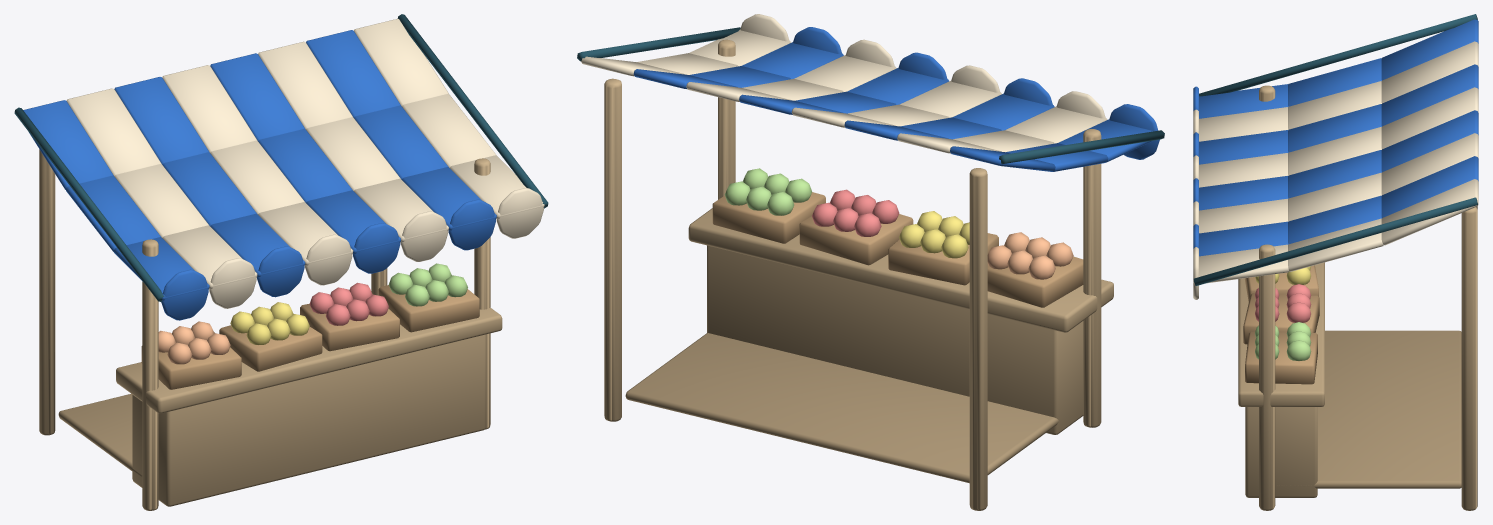
File: market_stall_blue.glb
3 renders of one model, left to right at view 1: azimuth 30°, elevation 25°; view 2: azimuth 150°, elevation 25°; view 3: azimuth 270°, elevation 25°, orthographic. The views are drawn at different scales.
Visible parts, largest first — view 1: Market_Stall_Blue_Frame, Market_Stall_Blue_Awning_B, Market_Stall_Blue_Awning_A, Market_Stall_Blue_Crates, Market_Stall_Blue_Fruit, Market_Stall_Blue_AwningRod; view 2: Market_Stall_Blue_Frame, Market_Stall_Blue_Awning_A, Market_Stall_Blue_Awning_B, Market_Stall_Blue_Crates, Market_Stall_Blue_Fruit, Market_Stall_Blue_AwningRod; view 3: Market_Stall_Blue_Frame, Market_Stall_Blue_Awning_A, Market_Stall_Blue_Awning_B, Market_Stall_Blue_AwningRod, Market_Stall_Blue_Crates, Market_Stall_Blue_Fruit.
Boxes of the visible parts, x1,y1,x2,y2 form: Market_Stall_Blue_Frame: [39, 149, 502, 510]; Market_Stall_Blue_Awning_B: [66, 18, 544, 308]; Market_Stall_Blue_Awning_A: [23, 30, 496, 320]; Market_Stall_Blue_Crates: [141, 285, 479, 389]; Market_Stall_Blue_Fruit: [158, 263, 467, 364]; Market_Stall_Blue_AwningRod: [14, 14, 548, 301]; Market_Stall_Blue_Frame: [604, 39, 1113, 510]; Market_Stall_Blue_Awning_A: [633, 27, 1159, 171]; Market_Stall_Blue_Awning_B: [581, 14, 1107, 153]; Market_Stall_Blue_Crates: [712, 192, 1083, 307]; Market_Stall_Blue_Fruit: [724, 168, 1073, 279]; Market_Stall_Blue_AwningRod: [577, 27, 1164, 164]; Market_Stall_Blue_Frame: [1238, 85, 1477, 510]; Market_Stall_Blue_Awning_A: [1193, 19, 1478, 256]; Market_Stall_Blue_Awning_B: [1193, 41, 1478, 299]; Market_Stall_Blue_AwningRod: [1193, 14, 1477, 285]; Market_Stall_Blue_Crates: [1243, 265, 1319, 384]; Market_Stall_Blue_Fruit: [1255, 266, 1311, 360].
Bounding box in the file's own units: 3.05 × 2.47 × 1.97.
